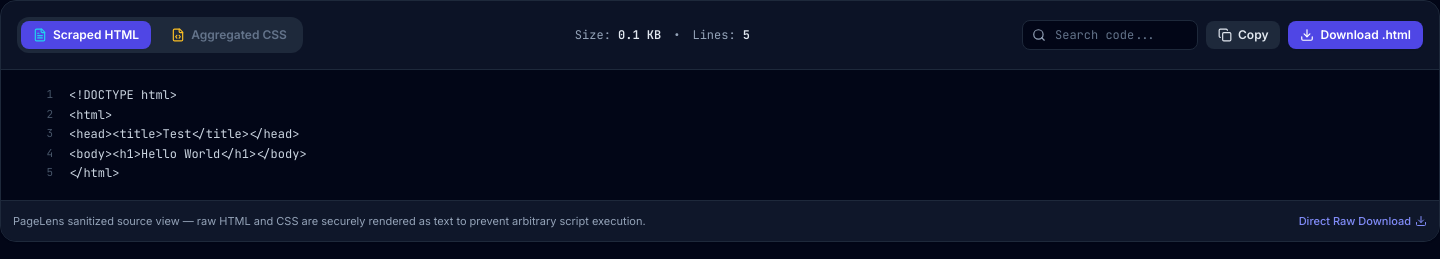
Test: ScrapedSourceViewer Component › switches to CSS tab upon click
Click the button "Aggregated CSS". click: coordinates (229, 35)
box: [159, 21, 299, 49]
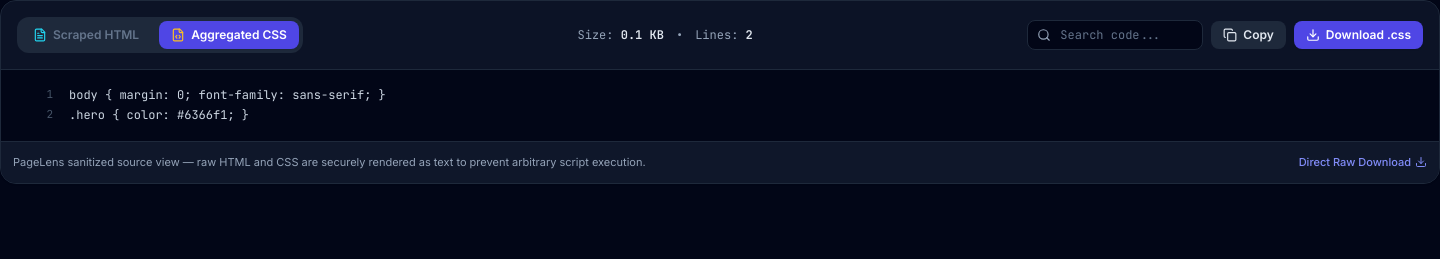
Expected: the text "body { margin: 0; font-family: sans-serif; }" is shown, [69, 87, 386, 103]
Expected: the text "Download .css" is shown, [1326, 27, 1411, 43]
